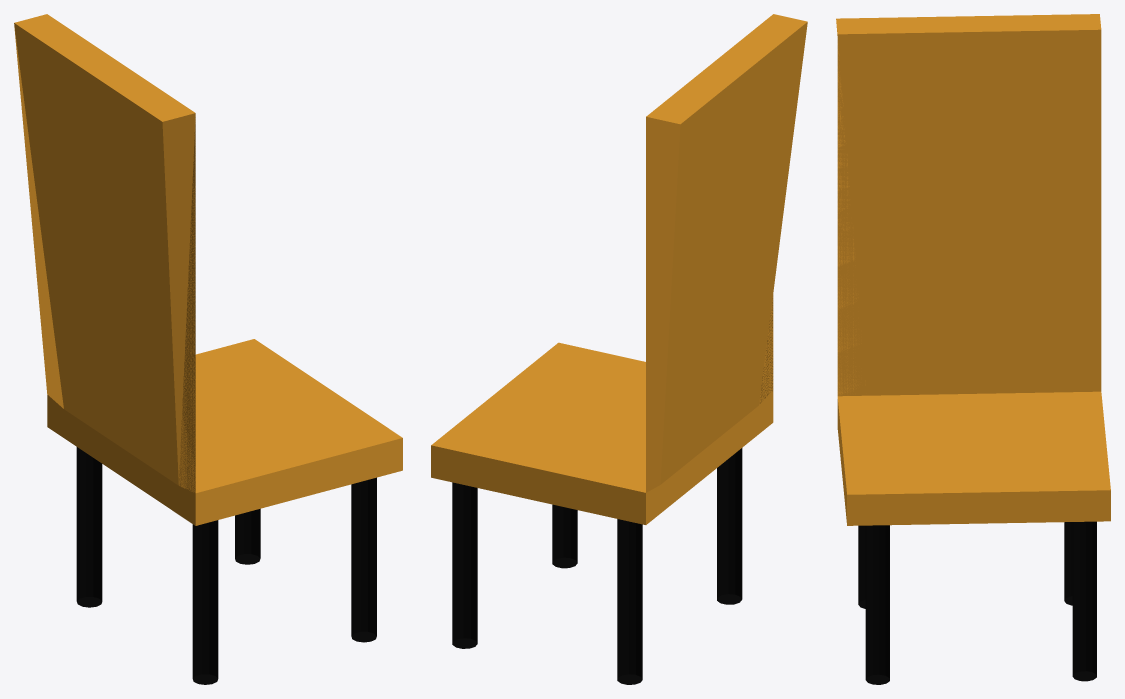
The model's file is Chair.fbx.
3 views of the same model, side by side, from view 1: azimuth 30°, elevation 25°; view 2: azimuth 150°, elevation 25°; view 3: azimuth 270°, elevation 25° (orthographic). The views are drawn at different scales.
Parts seen in each view (by area): view 1: Cube.030; view 2: Cube.030; view 3: Cube.030.
Boxes of the visible parts, box(x1,y1,x2,y2) form: Cube.030: box(14, 14, 402, 684); Cube.030: box(431, 14, 807, 684); Cube.030: box(836, 14, 1110, 684).
Bounding box in the file's own units: 598 × 1307 × 584.
